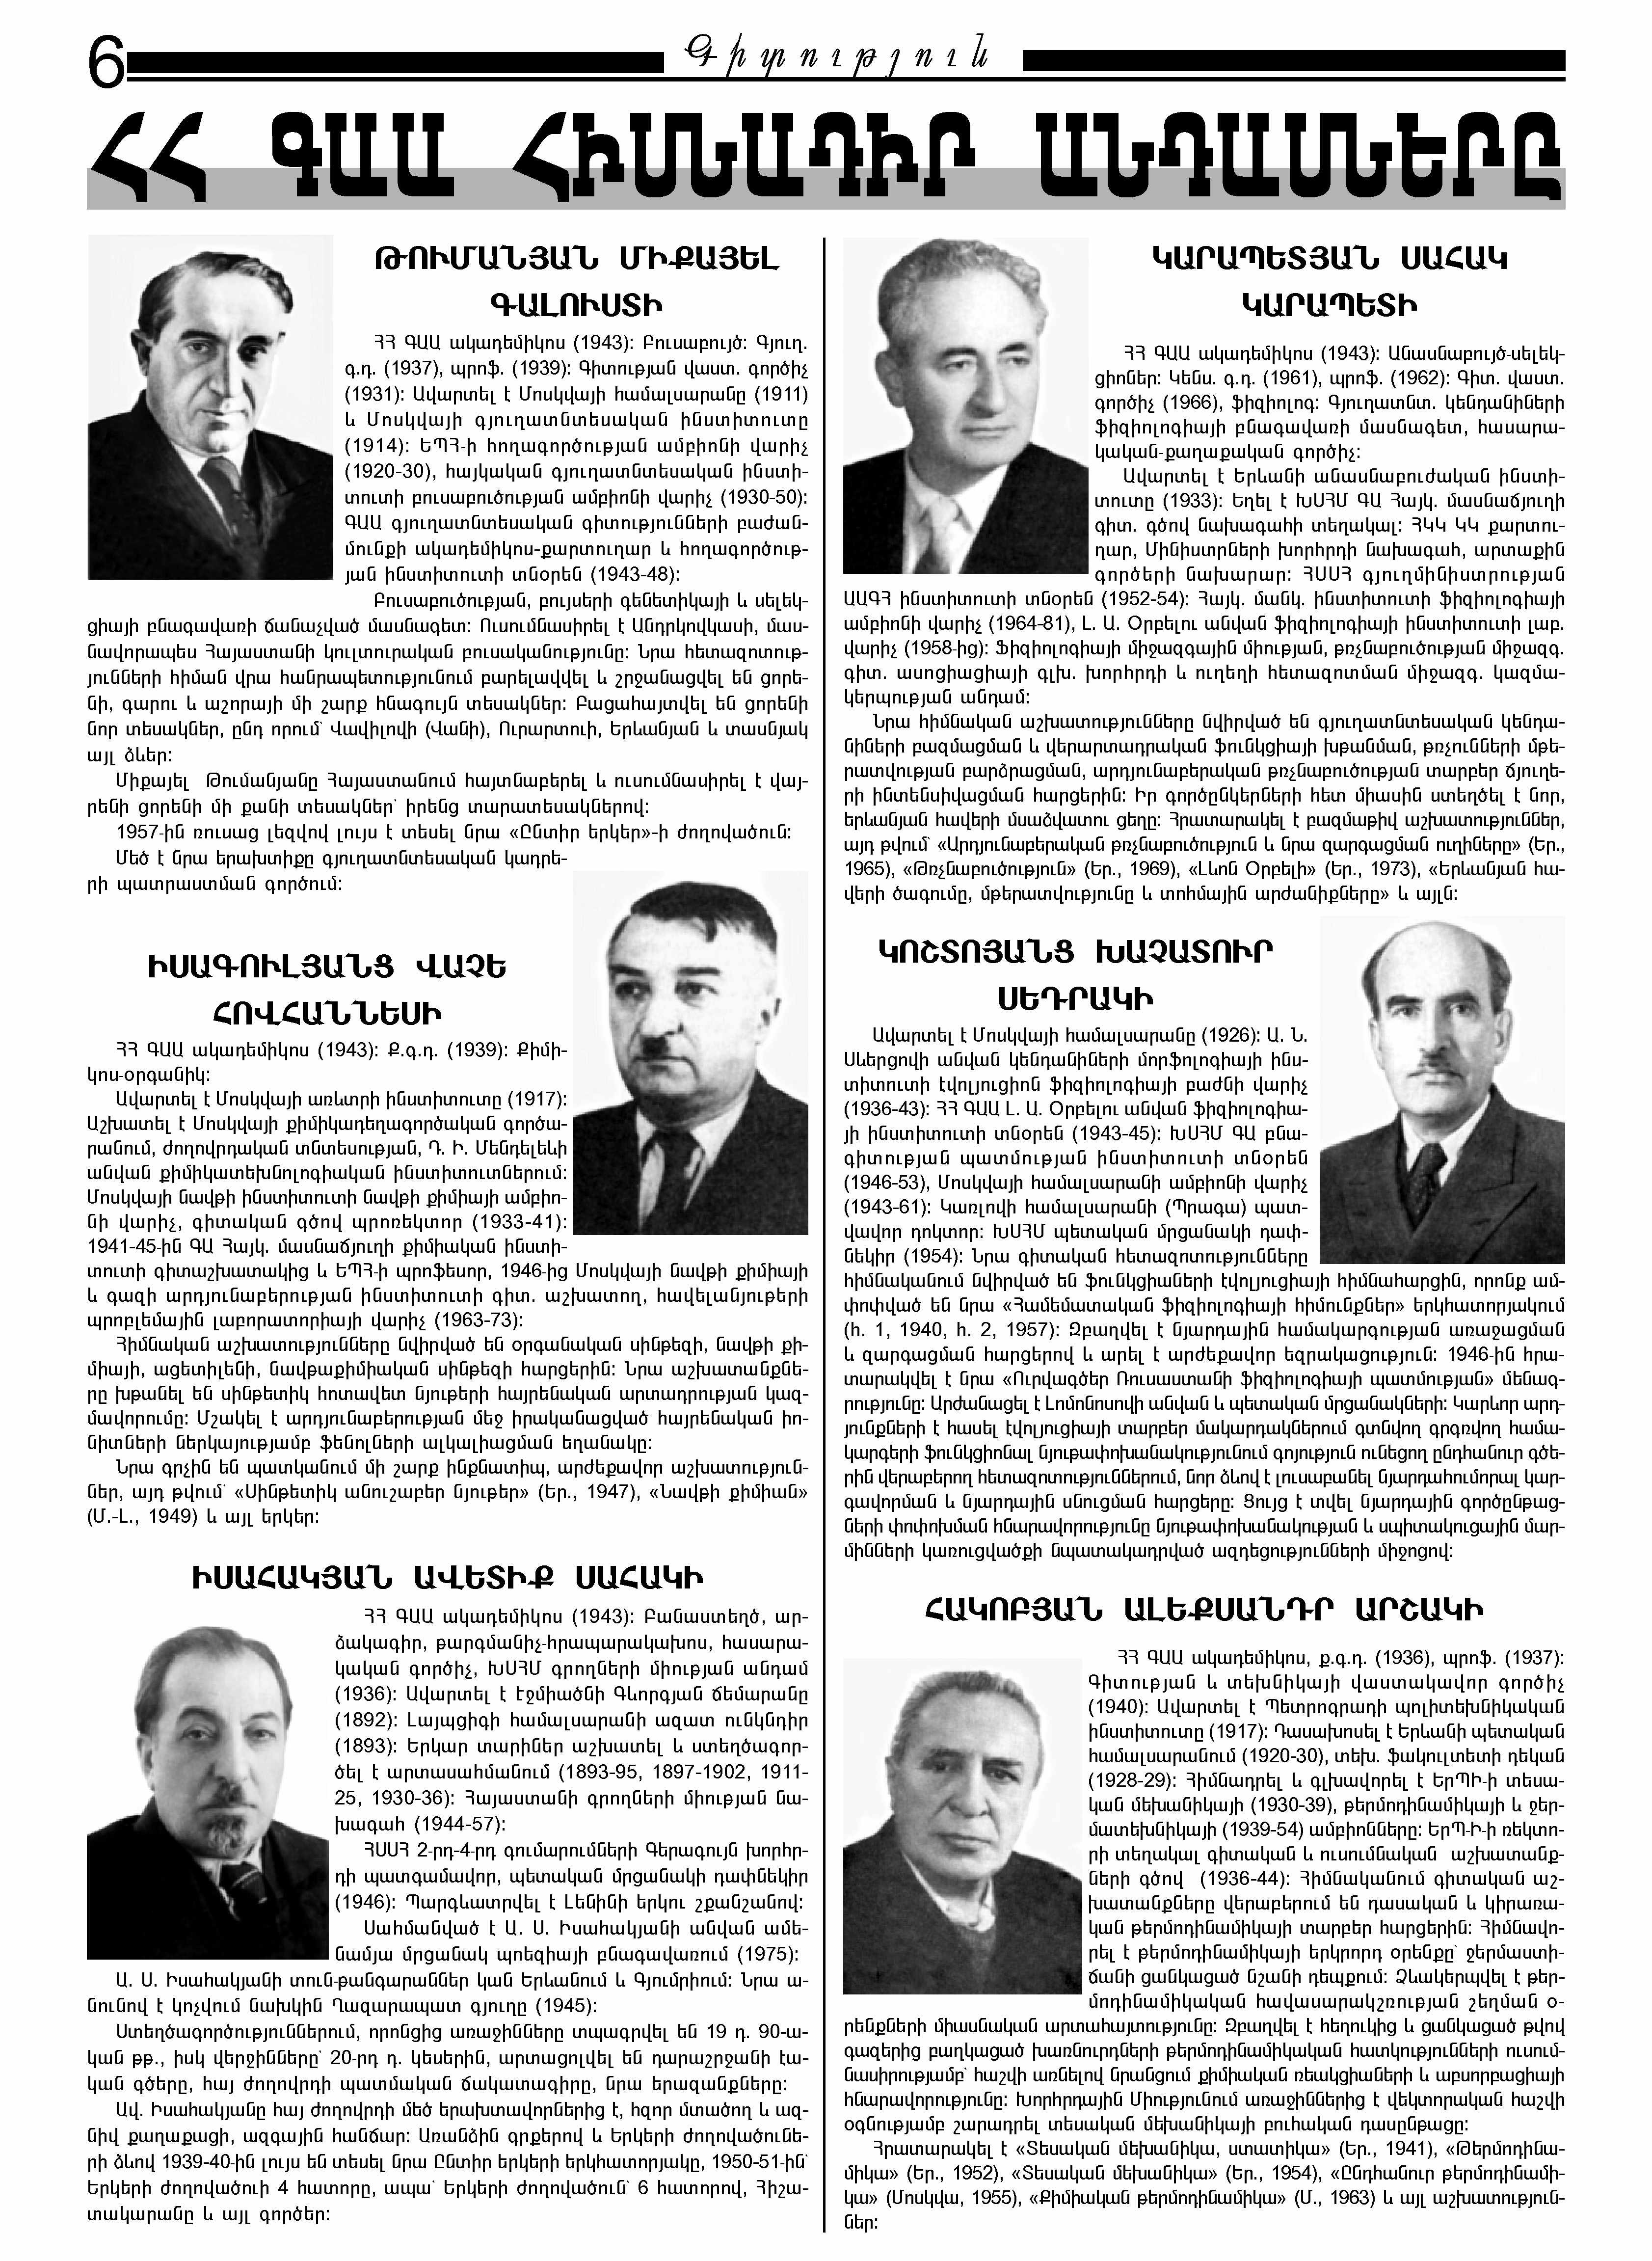person: (556, 856, 829, 1239), (75, 208, 347, 583), (1307, 908, 1581, 1279), (835, 220, 1105, 579), (72, 1601, 332, 1963), (845, 1656, 1087, 2006)
